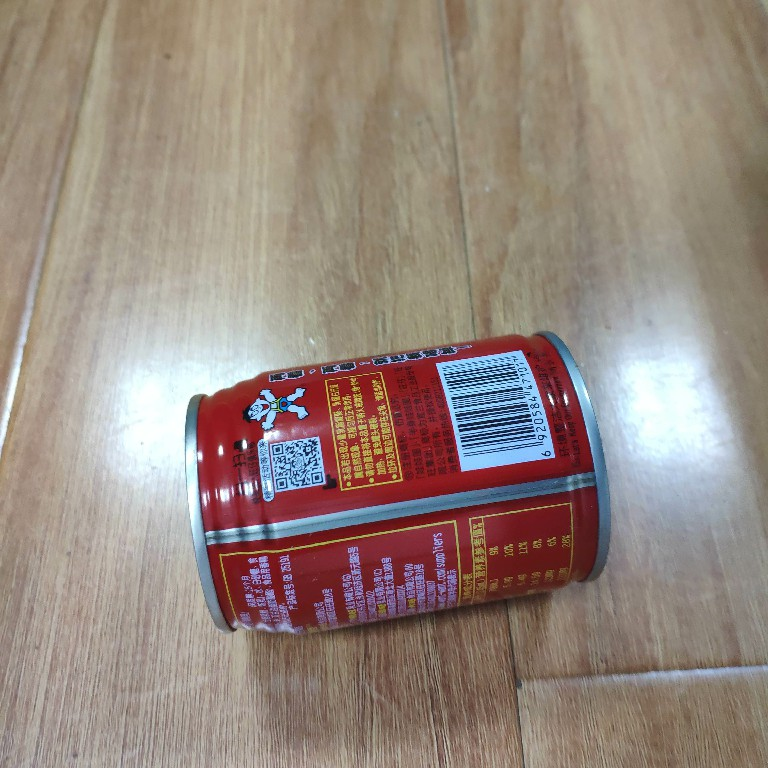can: (181, 329, 614, 639)
